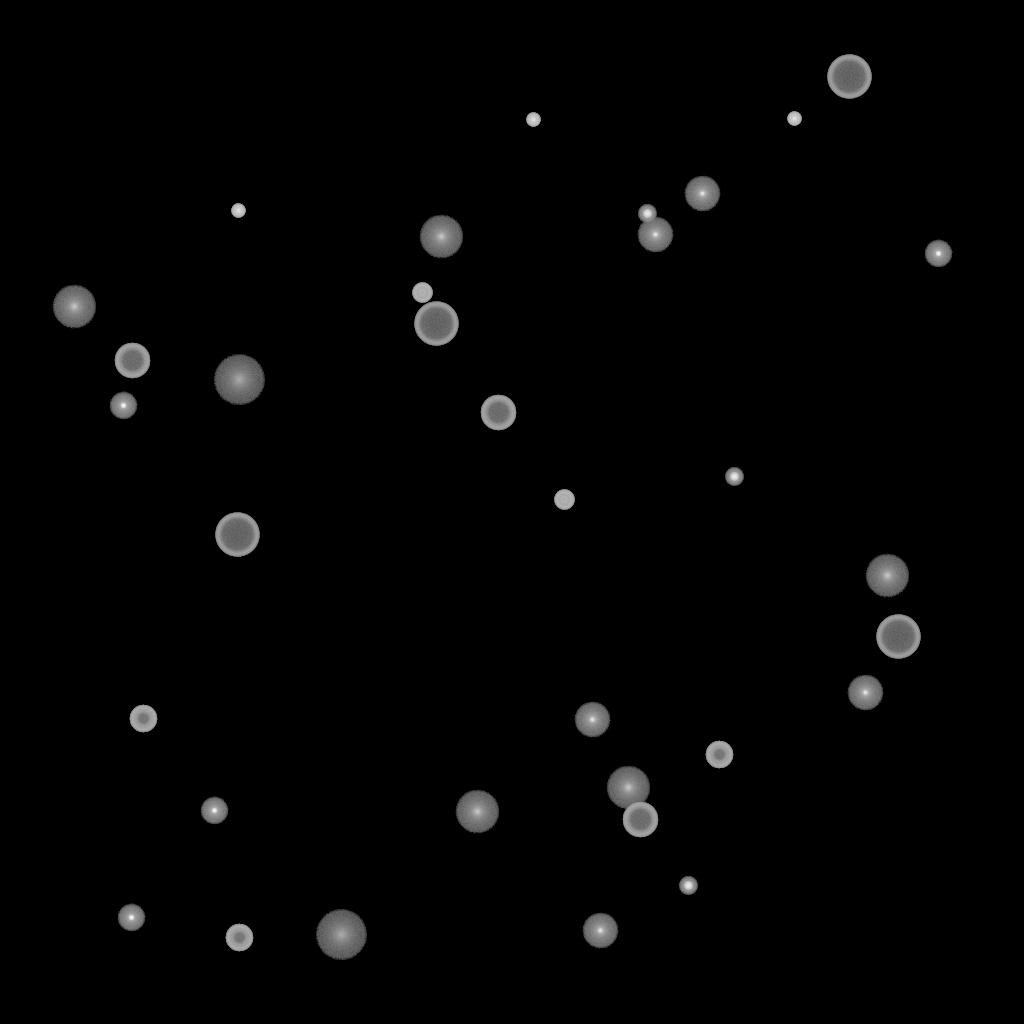depth:-10: (924, 240, 952, 268), (109, 392, 137, 420), (117, 904, 145, 932), (200, 797, 228, 825)
depth:-20: (638, 205, 656, 223), (725, 468, 743, 486), (679, 877, 697, 895)
depth:-30: (231, 204, 245, 218), (787, 112, 801, 126), (526, 113, 540, 127)
depth:-40: (412, 283, 432, 303), (554, 490, 574, 510)
depth:-50: (705, 741, 733, 769), (129, 705, 157, 733), (225, 924, 253, 952)
depth:-60: (480, 395, 516, 431), (114, 343, 150, 379), (622, 802, 658, 838)
depth:-70: (414, 302, 458, 346), (215, 513, 259, 557), (827, 55, 871, 99), (876, 615, 920, 659)
depth:0: (582, 913, 618, 949), (574, 702, 610, 738), (637, 217, 673, 253), (847, 675, 883, 711), (684, 176, 720, 212)
depth:10: (865, 554, 909, 598), (52, 285, 96, 329), (455, 790, 499, 834), (419, 215, 463, 259), (606, 766, 650, 810)
depth:20: (213, 355, 265, 405), (315, 910, 367, 960)
